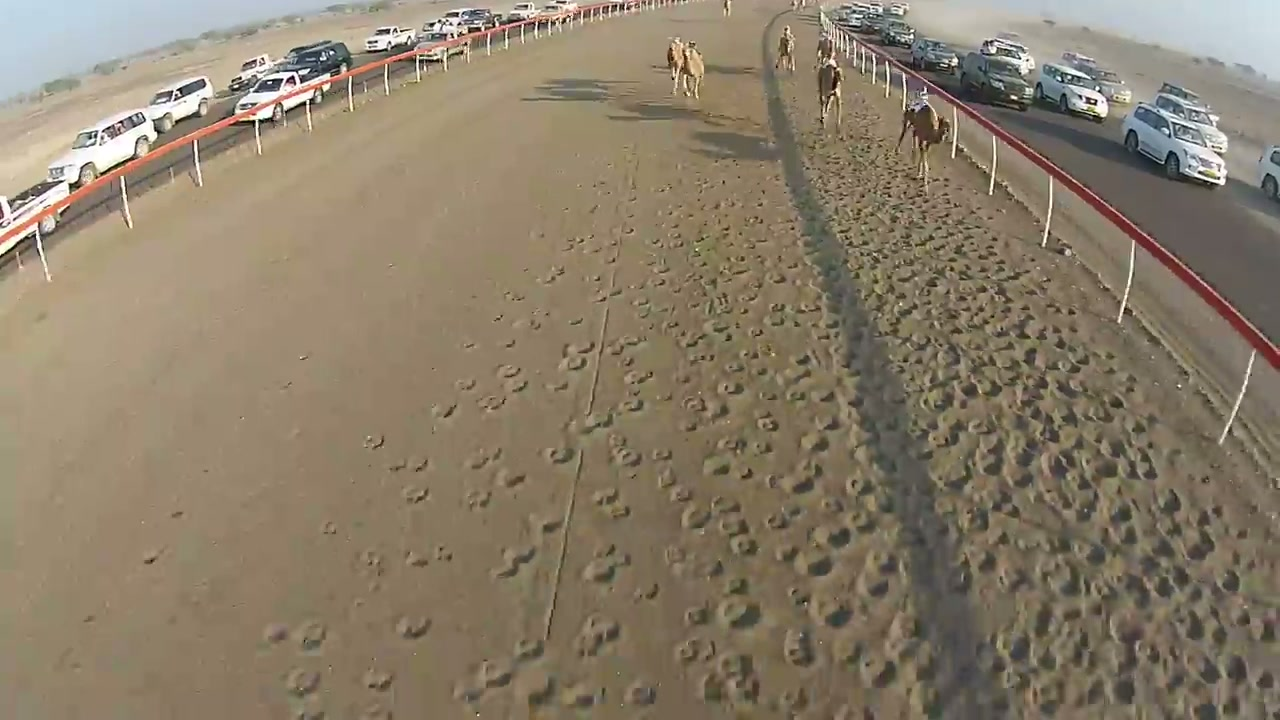animal_footprint: (31, 47, 1279, 717), (570, 102, 1275, 715), (803, 102, 1274, 715)
